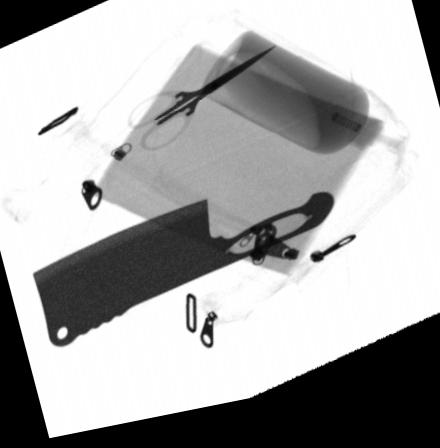Knife: (32, 203, 335, 349)
Scissors: (126, 55, 277, 155)
